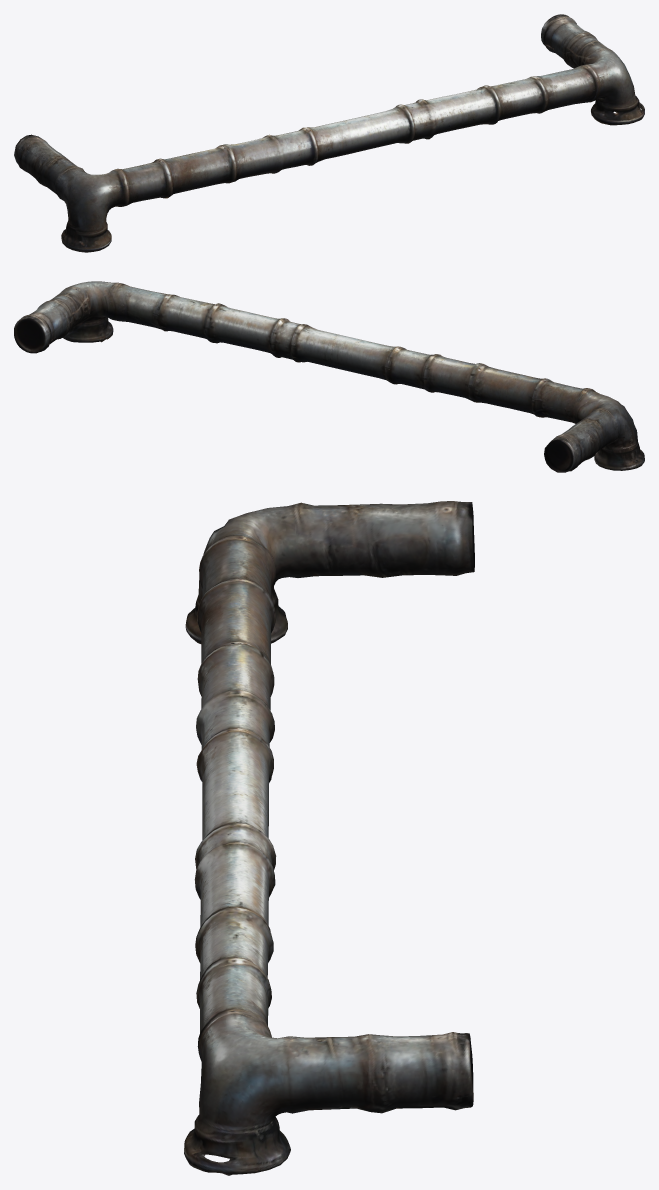
The model's file is Creepy_old_shining_pi_0124161539_texture.fbx.
3 views of the same model, one above another, from view 1: azimuth 30°, elevation 25°; view 2: azimuth 150°, elevation 25°; view 3: azimuth 270°, elevation 25° (orthographic). The views are drawn at different scales.
Visible parts, largest first — view 1: Mesh1_Mesh1.016; view 2: Mesh1_Mesh1.016; view 3: Mesh1_Mesh1.016.
Part boxes in pixels (box(x1,y1,x2,y2)): Mesh1_Mesh1.016: box(14, 14, 644, 252); Mesh1_Mesh1.016: box(14, 281, 644, 472); Mesh1_Mesh1.016: box(184, 501, 474, 1175).
Size of the model in its own units: 9058 by 1000 by 1981.
1 material, 1 textured.
